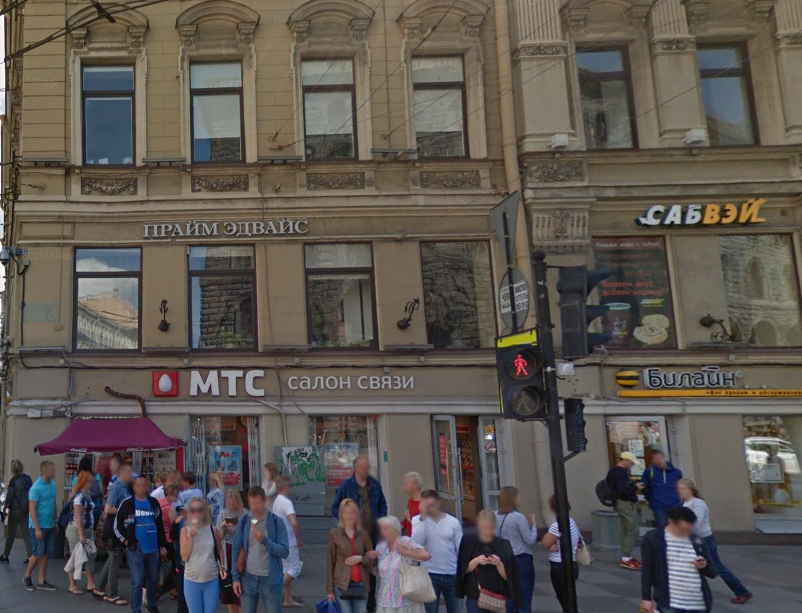door: (430, 411, 508, 505)
signboard: (143, 352, 428, 411), (614, 349, 792, 406), (626, 189, 773, 232), (138, 217, 313, 240)
window: (595, 234, 678, 353), (417, 239, 501, 354), (719, 232, 802, 345), (304, 239, 377, 353), (186, 243, 259, 352), (740, 414, 802, 538), (73, 244, 144, 350), (570, 40, 638, 150), (694, 35, 758, 149), (407, 56, 473, 161), (80, 55, 137, 164), (298, 56, 359, 157), (189, 54, 245, 163), (308, 412, 378, 454)
